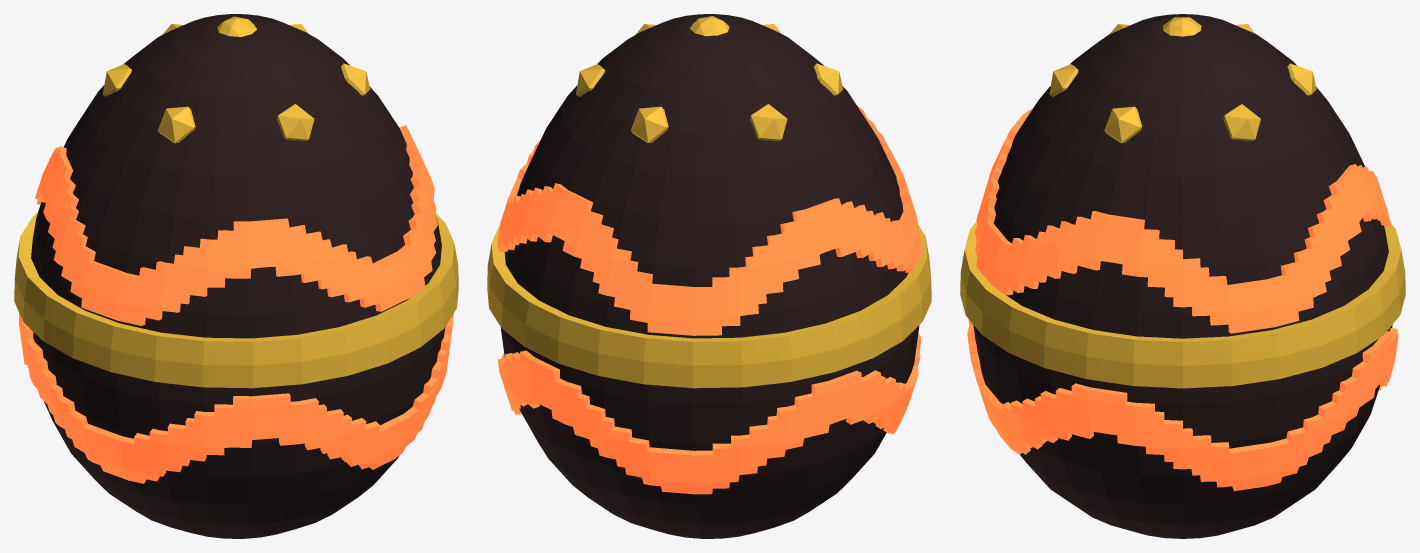
Rendered from MagmaEgg.fbx.
3 views of the same model, side by side, from view 1: azimuth 30°, elevation 25°; view 2: azimuth 150°, elevation 25°; view 3: azimuth 270°, elevation 25° (orthographic).
Parts seen in each view (by area): view 1: Egg_2A1A1A, Egg_FF3A1A_Neon, Egg_FFC83A_Metal; view 2: Egg_2A1A1A, Egg_FF3A1A_Neon, Egg_FFC83A_Metal; view 3: Egg_2A1A1A, Egg_FF3A1A_Neon, Egg_FFC83A_Metal.
Part boxes in pixels (x1=…): Egg_2A1A1A: x1=31, y1=14, x2=445, y2=538; Egg_FF3A1A_Neon: x1=19, y1=125, x2=453, y2=483; Egg_FFC83A_Metal: x1=14, y1=16, x2=458, y2=388; Egg_2A1A1A: x1=500, y1=14, x2=919, y2=538; Egg_FF3A1A_Neon: x1=497, y1=105, x2=921, y2=494; Egg_FFC83A_Metal: x1=487, y1=16, x2=931, y2=388; Egg_2A1A1A: x1=973, y1=14, x2=1392, y2=538; Egg_FF3A1A_Neon: x1=967, y1=108, x2=1398, y2=491; Egg_FFC83A_Metal: x1=960, y1=17, x2=1405, y2=388.
Size of the model in its own units: 2.13 by 2.64 by 2.13.
